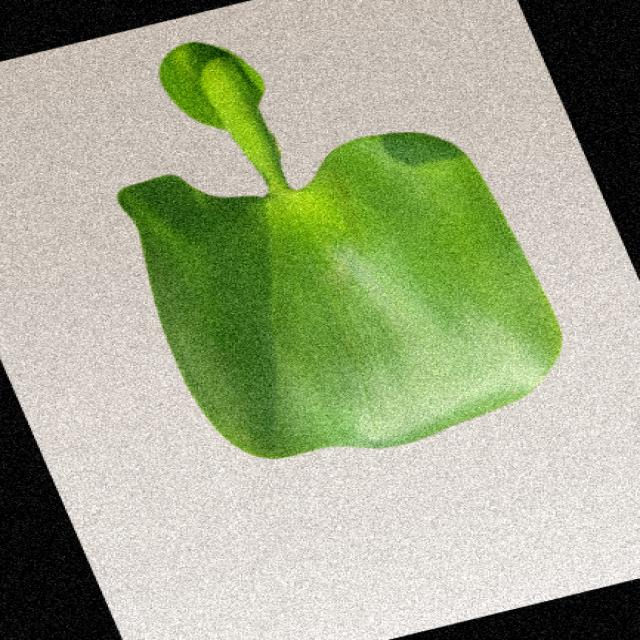daun sehat: (118, 42, 560, 458)
